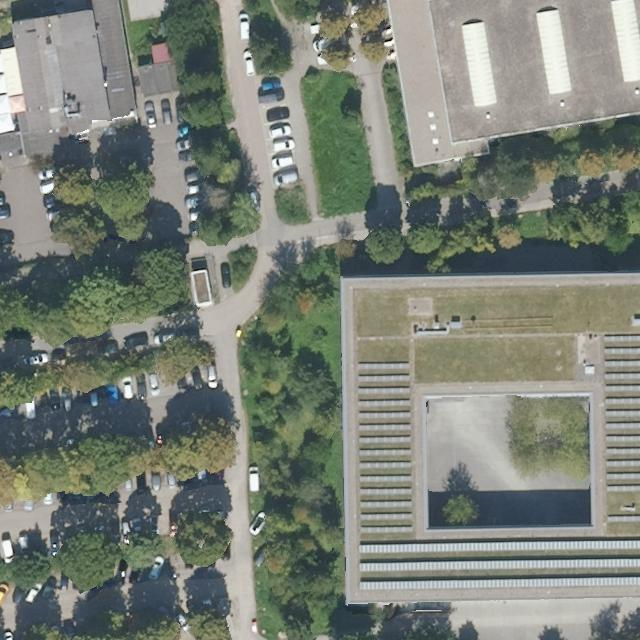PV: (353, 358, 416, 534), (601, 332, 639, 494), (354, 536, 638, 555), (356, 574, 639, 592), (356, 555, 639, 572), (606, 515, 639, 526)
